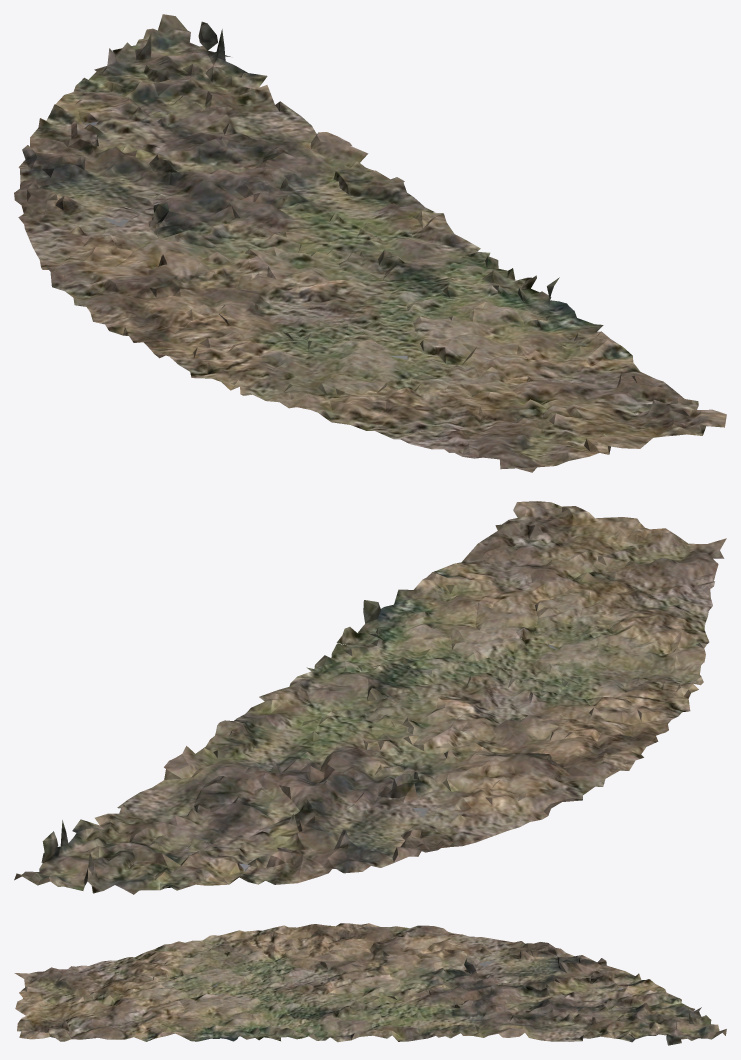
Rendered from Tile_003_013_L19.gltf.
3 renders of one model, top to bottom at view 1: azimuth 30°, elevation 25°; view 2: azimuth 150°, elevation 25°; view 3: azimuth 270°, elevation 25°, orthographic. The views are drawn at different scales.
Visible parts, largest first — view 1: Tile_+003_+013_L19; view 2: Tile_+003_+013_L19; view 3: Tile_+003_+013_L19.
Boxes of the visible parts, box(x1,y1,x2,y2) form: Tile_+003_+013_L19: box(14, 14, 726, 472); Tile_+003_+013_L19: box(14, 501, 726, 894); Tile_+003_+013_L19: box(14, 923, 726, 1045).
Size of the model in its own units: 35.96 by 3.29 by 91.5.
Materials: 1 (1 with a texture image).
